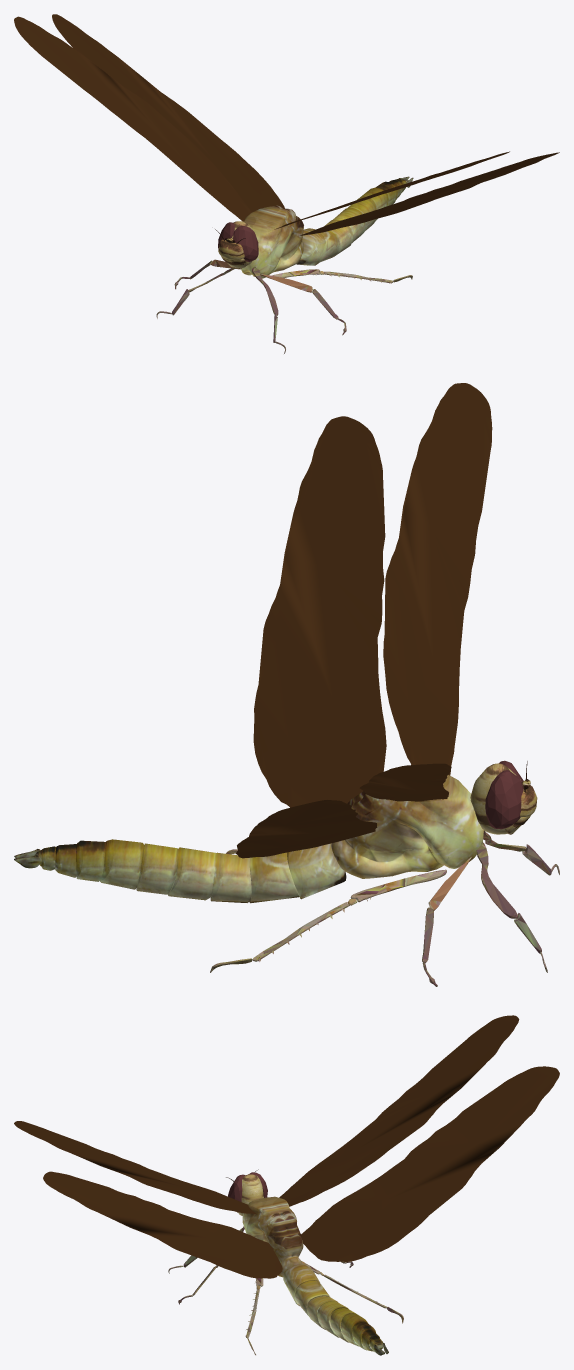
The model's file is Dragon Fly.fbx.
3 renders of one model, top to bottom at view 1: azimuth 30°, elevation 25°; view 2: azimuth 150°, elevation 25°; view 3: azimuth 270°, elevation 25°, orthographic. The views are drawn at different scales.
Parts seen in each view (by area): view 1: cab-aldd, cab-aldt, cab-torx, cab-alit, cab-ojos, cab-alid, cab-abd1, cab-nari; view 2: cab-alit, cab-alid, cab-torx, cab-aldt, cab-aldd, cab-abd1, cab-abd4, cab-abd2, cab-ojos, cab-abd3, cab-abd6, cab-abd5 (+5 smaller); view 3: cab-aldt, cab-aldd, cab-alit, cab-alid, cab-torx, cab-abd1, cab-abd2, cab-cabe, cab-abd4, cab-abd6, cab-ojos.
Part boxes in pixels (left/top/right/bottom): cab-aldd: left=14, top=16, right=254, bottom=223; cab-aldt: left=52, top=14, right=284, bottom=212; cab-torx: left=241, top=205, right=303, bottom=278; cab-alit: left=300, top=152, right=559, bottom=235; cab-ojos: left=218, top=222, right=258, bottom=262; cab-alid: left=274, top=151, right=509, bottom=229; cab-abd1: left=296, top=228, right=325, bottom=265; cab-nari: left=218, top=239, right=248, bottom=268; cab-alit: left=253, top=416, right=386, bottom=811; cab-alid: left=383, top=383, right=492, bottom=786; cab-torx: left=331, top=775, right=483, bottom=878; cab-aldt: left=236, top=800, right=377, bottom=858; cab-aldd: left=359, top=763, right=451, bottom=801; cab-abd1: left=287, top=843, right=346, bottom=899; cab-abd4: left=167, top=847, right=216, bottom=900; cab-abd2: left=249, top=852, right=299, bottom=903; cab-ojos: left=485, top=760, right=523, bottom=829; cab-abd3: left=210, top=852, right=251, bottom=902; cab-abd6: left=100, top=839, right=144, bottom=889; cab-abd5: left=136, top=843, right=178, bottom=894; cab-aldt: left=300, top=1066, right=559, bottom=1261; cab-aldd: left=276, top=1015, right=519, bottom=1207; cab-alit: left=43, top=1171, right=282, bottom=1278; cab-alid: left=14, top=1121, right=256, bottom=1213; cab-torx: left=242, top=1196, right=303, bottom=1277; cab-abd1: left=283, top=1264, right=319, bottom=1305; cab-abd2: left=295, top=1280, right=329, bottom=1315; cab-cabe: left=238, top=1174, right=263, bottom=1215; cab-abd4: left=317, top=1301, right=348, bottom=1337; cab-abd6: left=341, top=1313, right=367, bottom=1346; cab-ojos: left=228, top=1172, right=267, bottom=1201.
Size of the model in its own units: 10.83 by 6.95 by 15.84.
